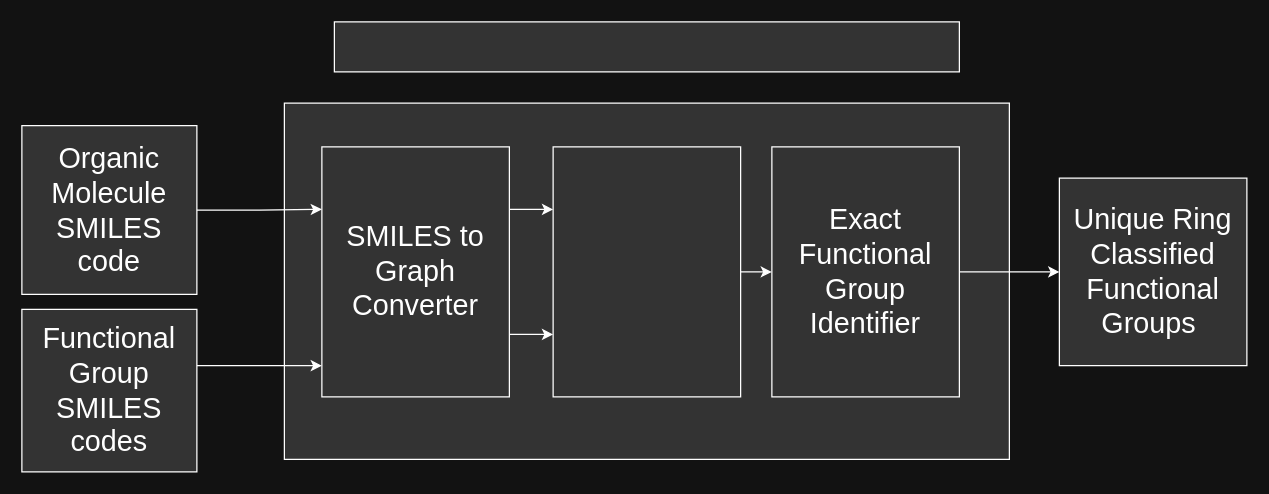
This 1269x494 diagram has some shape labels left out. The box of each missing label's shape, as (x1, y1, x2, y2) in pixels:
General Functional Group Graph Identifier: (552, 146, 741, 397)
SMILES Based Functional Group Identification: (333, 21, 959, 72)
